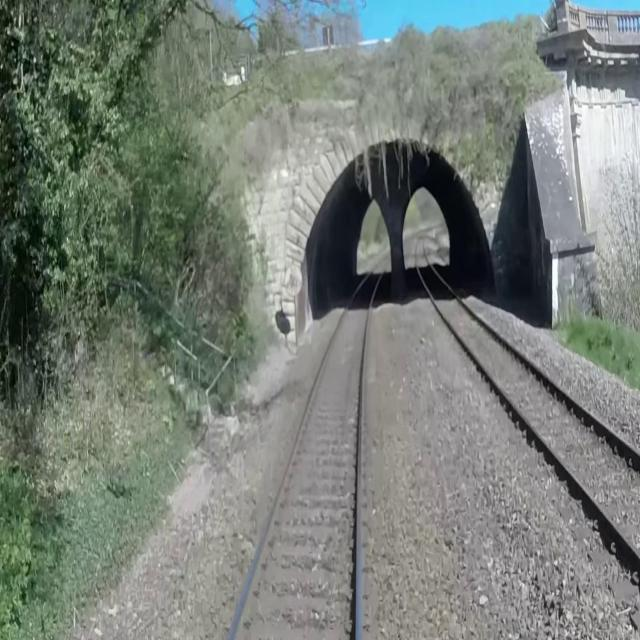rail-track: (416, 235, 640, 551), (233, 252, 390, 639)
